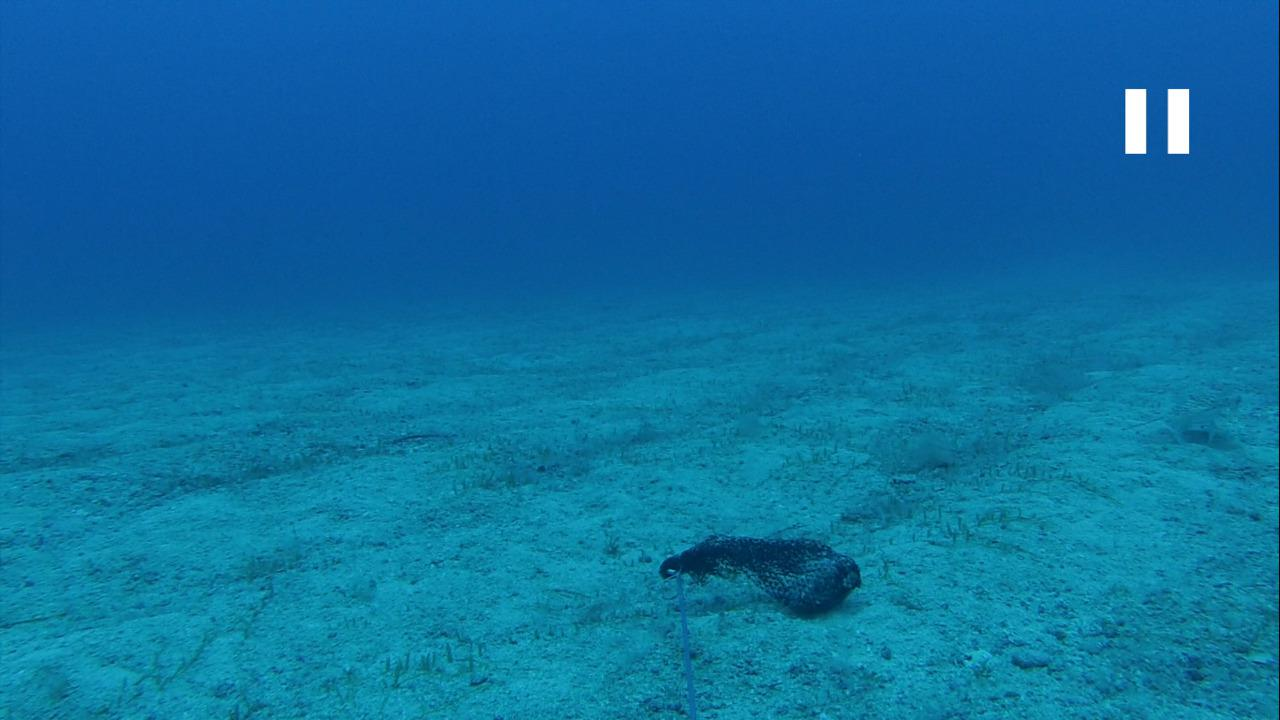dactylopterus: (1136, 377, 1253, 450)
